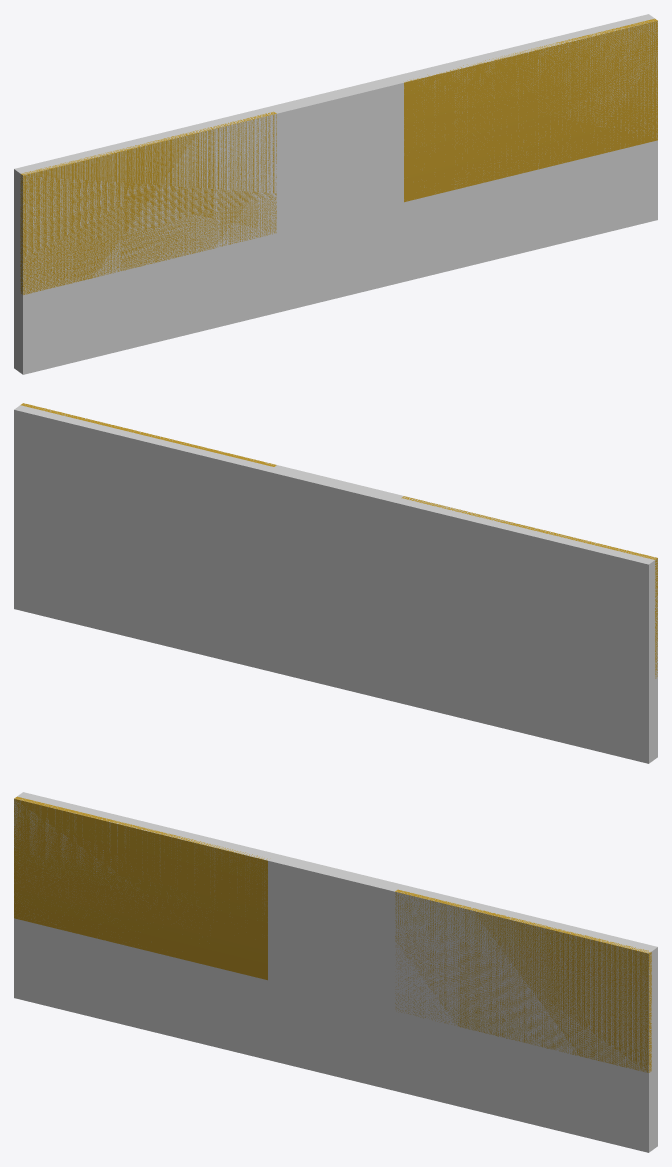
File: KIT_SF_SponsorBoards_A.glb
3 renders of one model, top to bottom at view 1: azimuth 30°, elevation 25°; view 2: azimuth 150°, elevation 25°; view 3: azimuth 330°, elevation 25°, orthographic.
Parts seen in each view (by area): view 1: KIT_SF_SponsorBoards_A_COL, KIT_SF_SponsorBoards_A; view 2: KIT_SF_SponsorBoards_A_COL, KIT_SF_SponsorBoards_A; view 3: KIT_SF_SponsorBoards_A_COL, KIT_SF_SponsorBoards_A.
Boxes of the visible parts, <box> form: KIT_SF_SponsorBoards_A_COL: <box>14,14,657,374</box>; KIT_SF_SponsorBoards_A: <box>20,18,657,294</box>; KIT_SF_SponsorBoards_A_COL: <box>14,403,657,763</box>; KIT_SF_SponsorBoards_A: <box>20,403,657,678</box>; KIT_SF_SponsorBoards_A_COL: <box>14,792,657,1152</box>; KIT_SF_SponsorBoards_A: <box>14,796,651,1072</box>.
Size of what is drawn, in the model's own units: 5 by 1.5 by 0.125.
